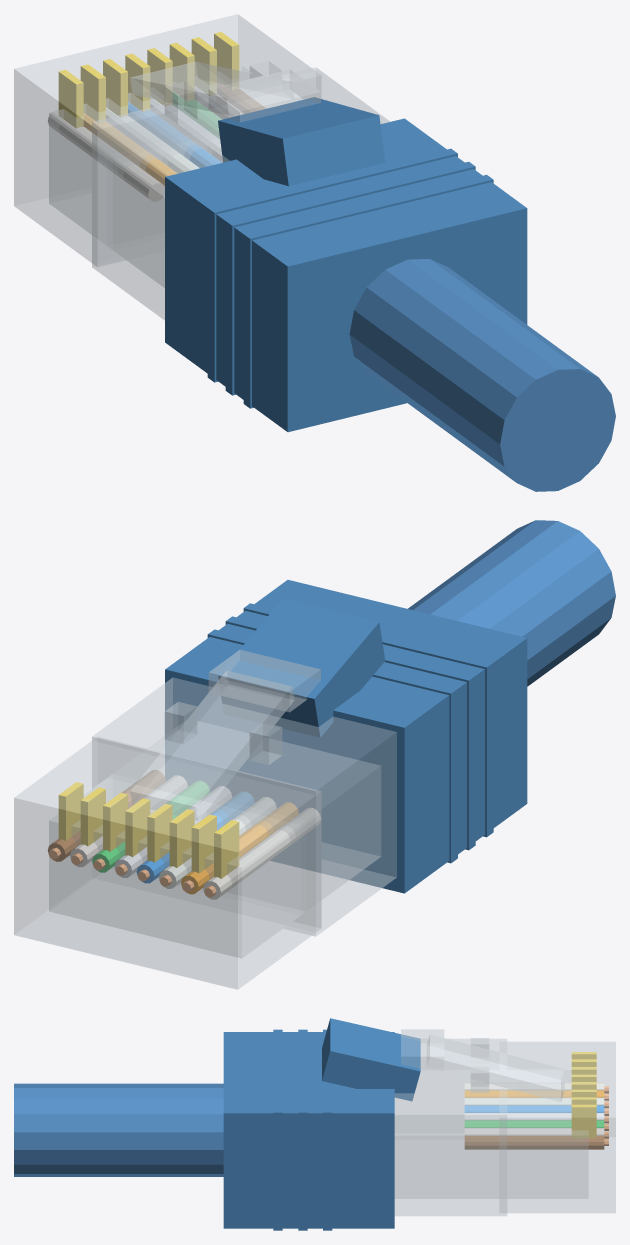
The model's file is rj45_connector.glb.
The picture shows the model from 3 angles, top to bottom: view 1: azimuth 30°, elevation 25°; view 2: azimuth 150°, elevation 25°; view 3: azimuth 270°, elevation 25°; orthographic projection. The views are drawn at different scales.
Parts seen in each view (by area): view 1: Strain_Boot_Body, Cat6_Cable_Jacket, RJ45_Housing_Head, RJ45_Housing_Body, RJ45_Wire_Cavity, Strain_Boot_Hood, RJ45_Latch_Clip, Boot_Grip_Rib_2, Boot_Grip_Rib_1, Latch_Release_Tab, Boot_Grip_Rib_0, Conductor_Wire_1 (+16 smaller); view 2: RJ45_Housing_Head, Strain_Boot_Body, RJ45_Wire_Cavity, RJ45_Housing_Body, Cat6_Cable_Jacket, Strain_Boot_Hood, RJ45_Latch_Clip, Latch_Release_Tab, Boot_Grip_Rib_0, Boot_Grip_Rib_1, Boot_Grip_Rib_2, Conductor_Wire_1 (+17 smaller); view 3: Strain_Boot_Body, RJ45_Wire_Cavity, Cat6_Cable_Jacket, RJ45_Housing_Head, RJ45_Housing_Body, Strain_Boot_Hood, RJ45_Latch_Clip, Conductor_Wire_8, Boot_Grip_Rib_0, Boot_Grip_Rib_1, Latch_Release_Tab, Boot_Grip_Rib_2 (+10 smaller).
Part boxes in pixels (x1,y1,x2,y2): Strain_Boot_Body: (165,118,527,432); Cat6_Cable_Jacket: (349,259,615,491); RJ45_Housing_Head: (14,14,321,266); RJ45_Housing_Body: (92,67,390,320); RJ45_Wire_Cavity: (49,66,249,287); Strain_Boot_Hood: (218,97,385,186); RJ45_Latch_Clip: (130,62,294,114); Boot_Grip_Rib_2: (207,148,457,382); Boot_Grip_Rib_1: (225,161,475,395); Latch_Release_Tab: (208,69,320,122); Boot_Grip_Rib_0: (243,174,493,408); Conductor_Wire_1: (47,109,164,201); RJ45_Housing_Head: (14,737,321,989); Strain_Boot_Body: (165,580,527,893); RJ45_Wire_Cavity: (49,736,380,958); RJ45_Housing_Body: (92,677,396,936); Cat6_Cable_Jacket: (408,520,615,686); Strain_Boot_Hood: (218,598,385,737); RJ45_Latch_Clip: (130,671,294,820); Latch_Release_Tab: (208,650,320,712); Boot_Grip_Rib_0: (243,603,493,837); Boot_Grip_Rib_1: (225,616,475,850); Boot_Grip_Rib_2: (207,629,457,863); Conductor_Wire_1: (203,808,320,899); Strain_Boot_Body: (223,1032,394,1228); RJ45_Wire_Cavity: (395,1070,588,1198); Cat6_Cable_Jacket: (14,1083,223,1176); RJ45_Housing_Head: (499,1041,615,1213); RJ45_Housing_Body: (394,1038,507,1216); Strain_Boot_Hood: (322,1018,420,1101); RJ45_Latch_Clip: (427,1034,564,1101); Conductor_Wire_8: (464,1135,604,1149); Boot_Grip_Rib_0: (273,1029,282,1230); Boot_Grip_Rib_1: (298,1029,307,1230); Latch_Release_Tab: (401,1029,444,1070); Boot_Grip_Rib_2: (323,1029,332,1230).
Bounding box in the file's own units: 1.26 × 1.1 × 3.88.
